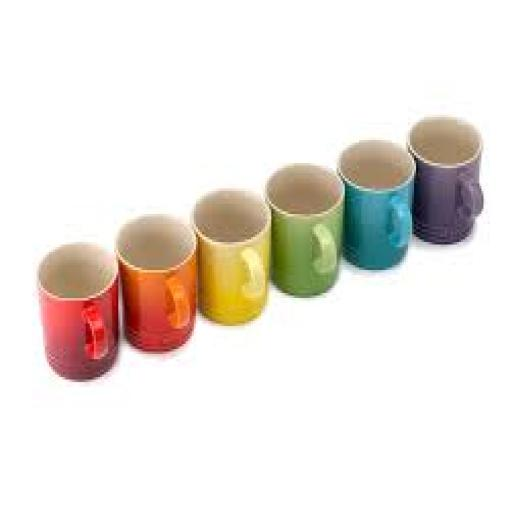red mug: (39, 242, 118, 379), (117, 214, 195, 351)
